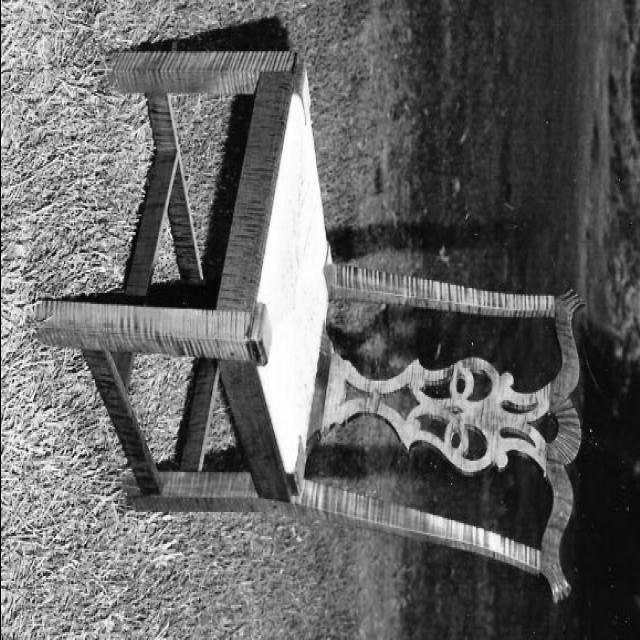chair: (32, 47, 586, 605)
